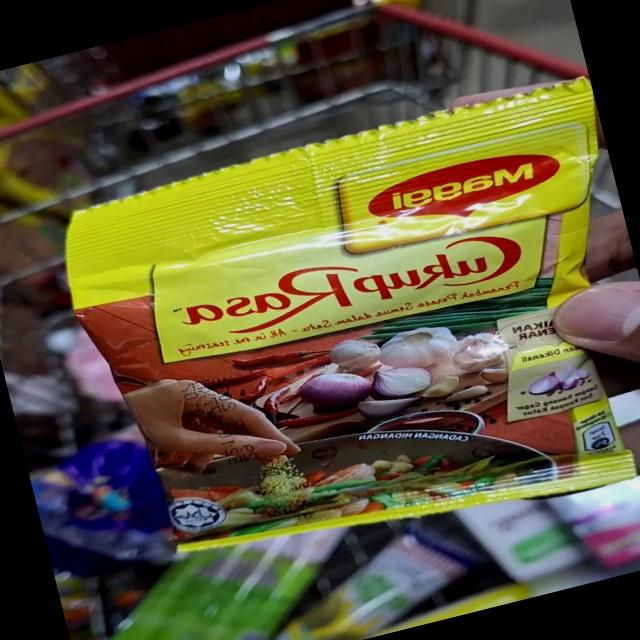Maggi Cukup Rasa: (56, 88, 640, 571)
